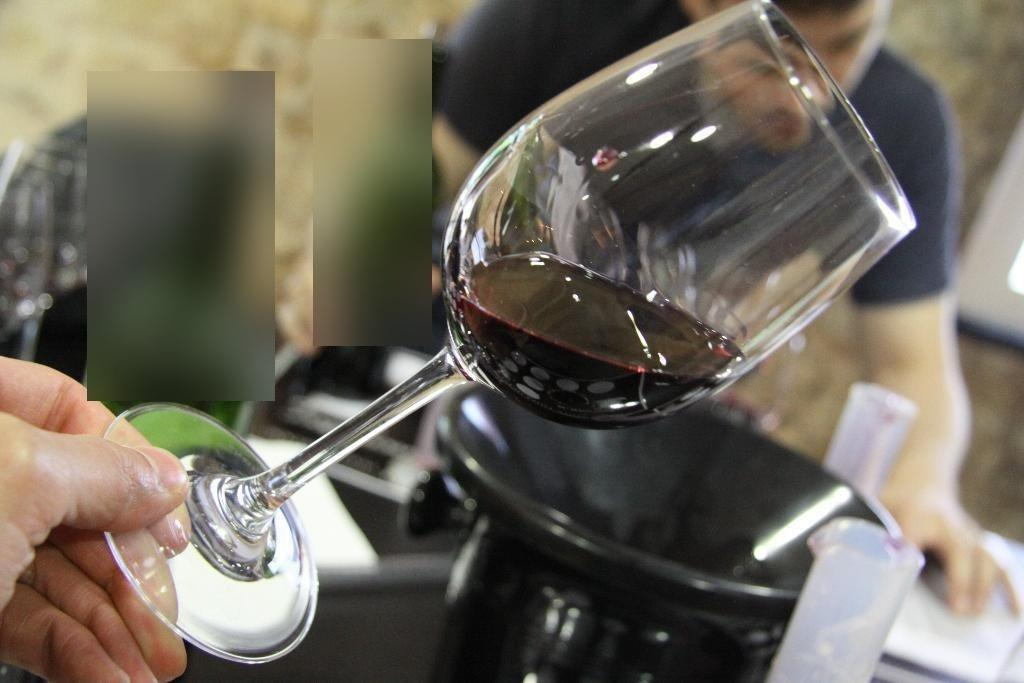glass-wine: (101, 0, 916, 662)
